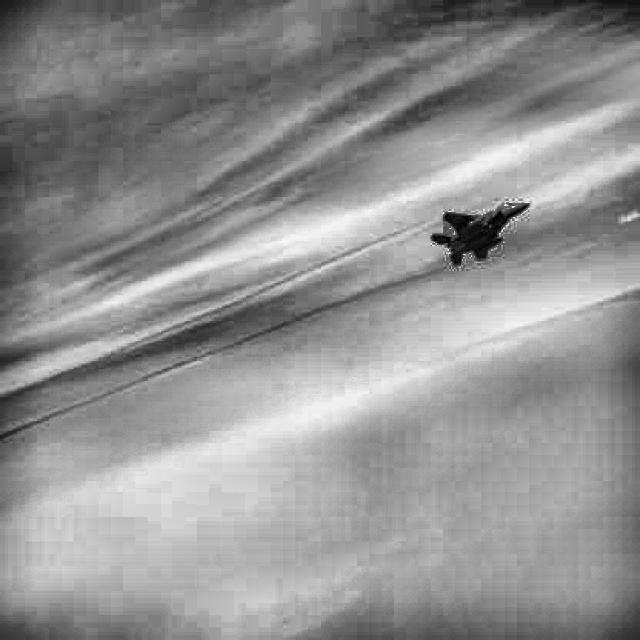F15: (432, 202, 530, 266)
